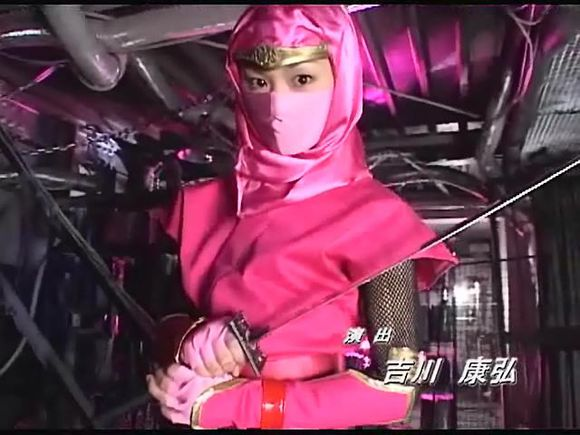face_mask: (236, 37, 334, 150)
